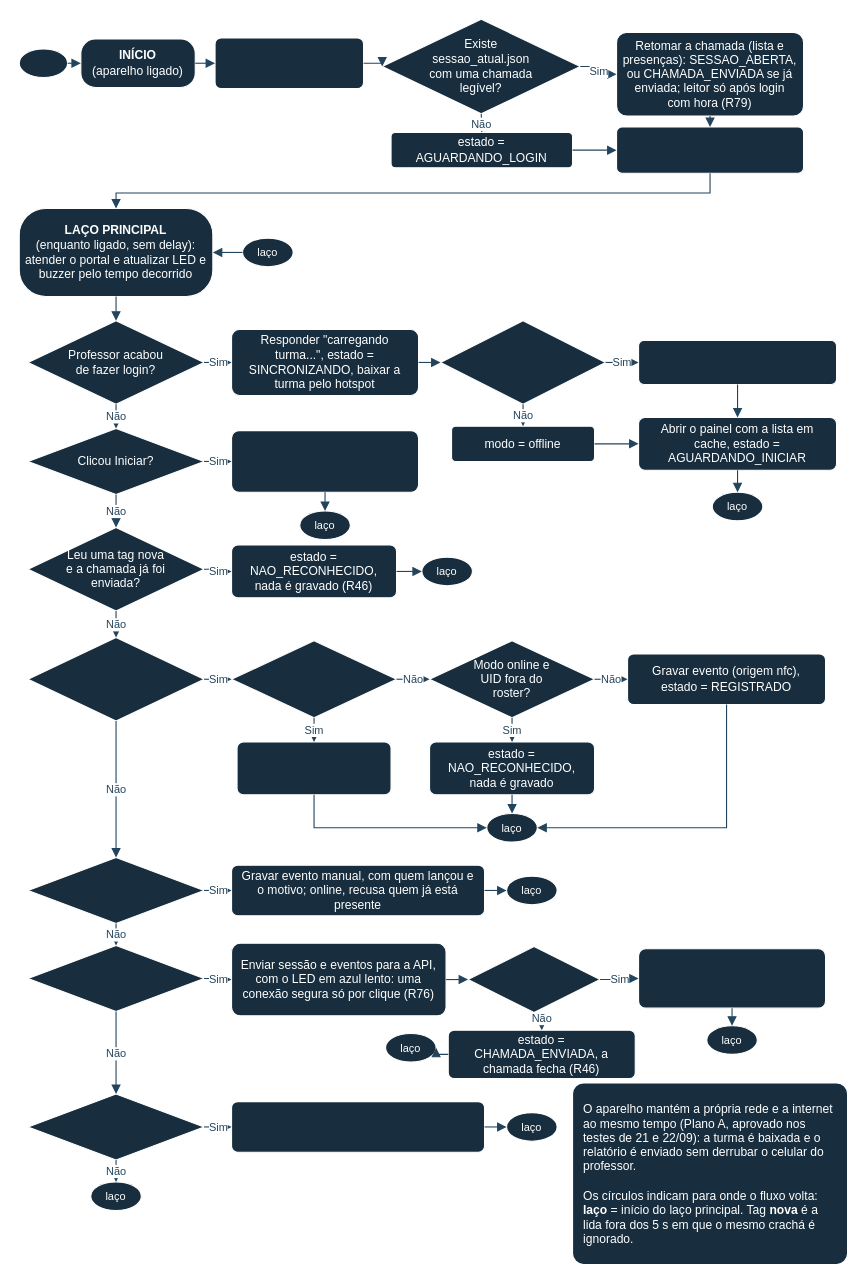
This 867x1284 diagram has some shape labels left out. The shapes that lost their labels are listed below. From the top down, each one's centre as x and y in pixels, then its label:
the point at 43,63: início
the point at 289,63: Inicializar LittleFS, SPI, RC522, LED e buzzer
the point at 709,149: Subir SoftAP (WPA2), DNS do portal cativo e WebServer
the point at 522,362: Conseguiu baixar o roster da turma?
the point at 737,361: Gravar o roster em cache, modo = online
the point at 324,461: Abrir a sessão e gravar sessao_atual.json, estado = SESSAO_ABERTA
the point at 115,678: Leu uma tag nova e a sessão está aberta?
the point at 313,679: UID já registrado nesta sessão?
the point at 313,768: estado = JA_REGISTRADO, nada é gravado
the point at 115,889: Lançou presença manual?
the point at 115,977: Clicou Enviar?
the point at 533,979: O envio falhou?
the point at 731,978: Manter eventos.json, deixar o Compartilhar disponível, estado = SESSAO_ABERTA
the point at 115,1126: Clicou Encerrar?
the point at 357,1126: Fechar a sessão e apagar o roster em cache, estado = AGUARDANDO_LOGIN
